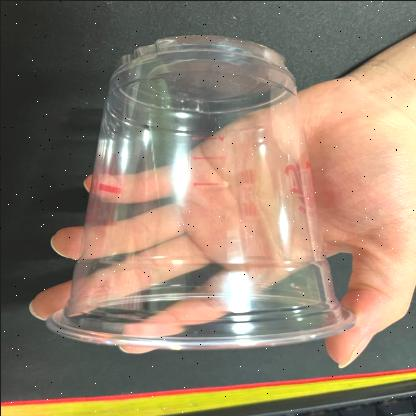Others: (38, 31, 356, 354)
